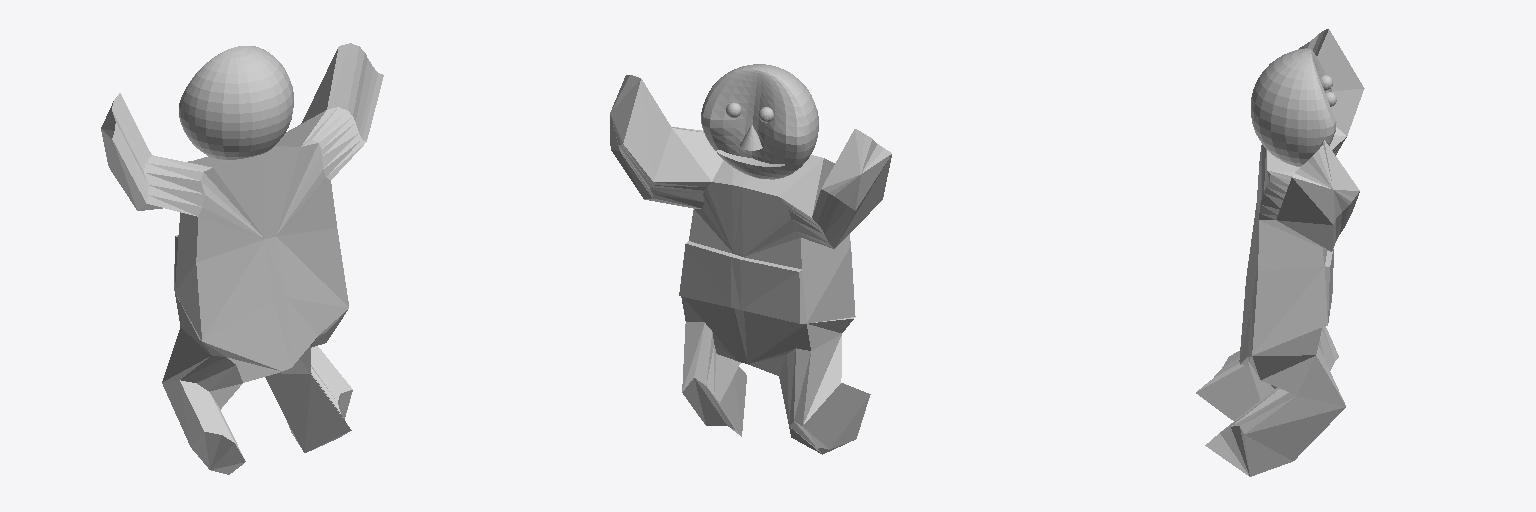
Rendered from manjump_000012.obj.
3 views of the same model, side by side, from view 1: azimuth 30°, elevation 25°; view 2: azimuth 150°, elevation 25°; view 3: azimuth 270°, elevation 25° (orthographic).
Visible parts, largest first — view 1: Cube; view 2: Cube; view 3: Cube.
Part boxes in pixels (x1,y1,x2,y2): Cube: (101, 43, 383, 474); Cube: (610, 64, 891, 454); Cube: (1196, 29, 1364, 476).
Size of the model in its own units: 85.1 by 121 by 46.47.